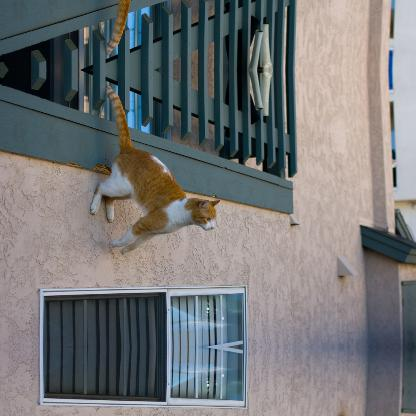Cat: (87, 84, 219, 254), (87, 0, 220, 54)
